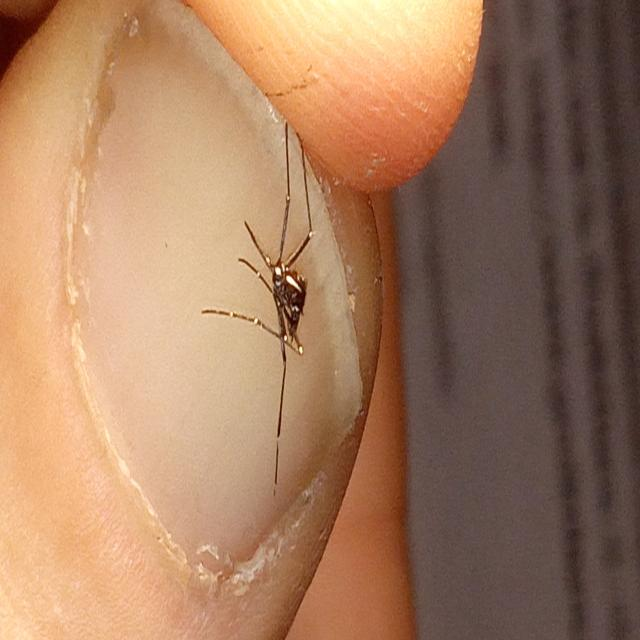albopictus: (200, 116, 324, 492)
